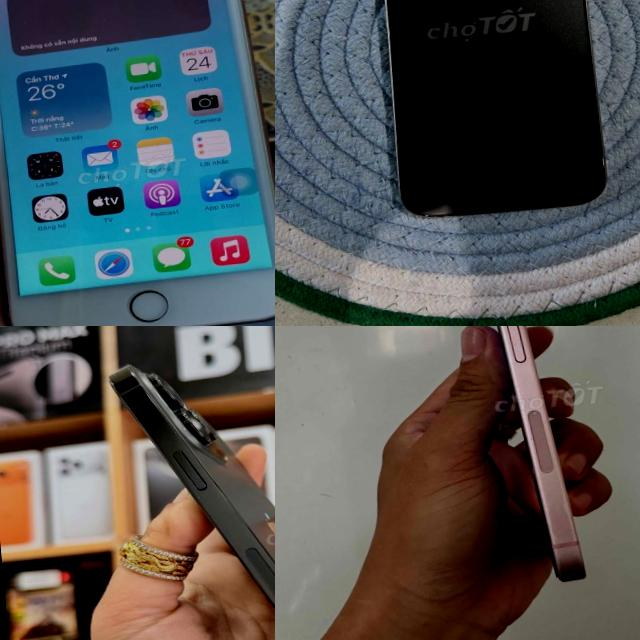scratch: (414, 207, 452, 219), (596, 148, 612, 170)
